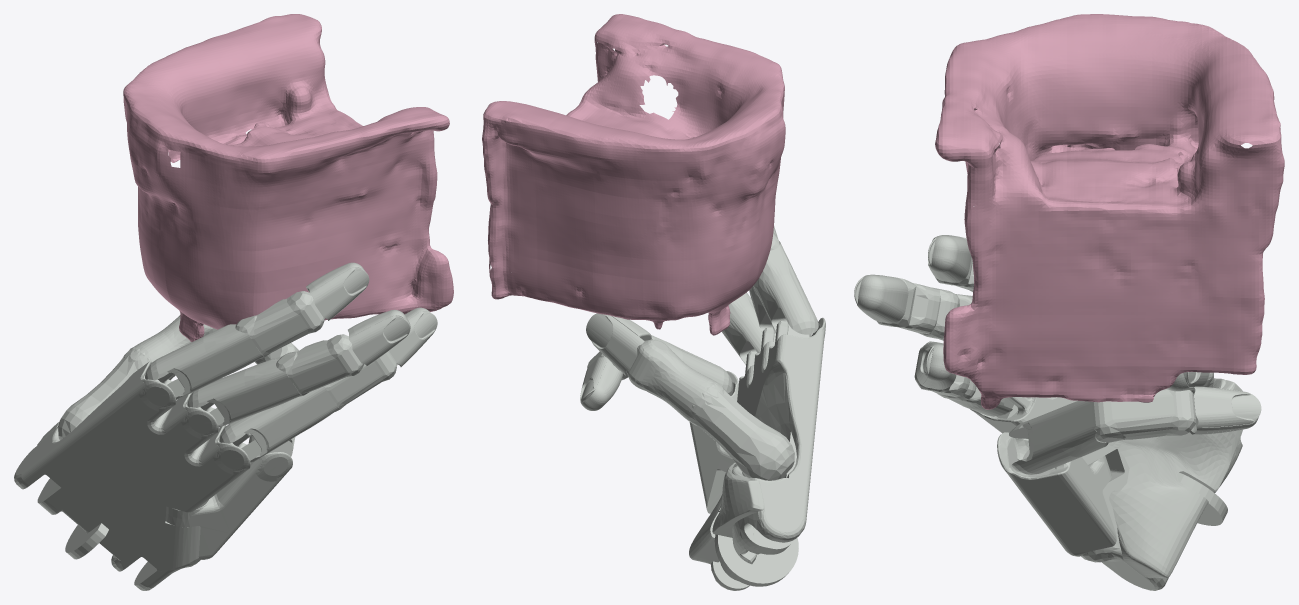
The picture shows the model from 3 angles, left to right: view 1: azimuth 30°, elevation 25°; view 2: azimuth 150°, elevation 25°; view 3: azimuth 270°, elevation 25°; orthographic projection. The views are drawn at different scales.
Visible parts, largest first — view 1: world, hand; view 2: world, hand; view 3: world, hand.
Part boxes in pixels (<box>): world: <box>123,14,453,341</box>; hand: <box>14,262,437,590</box>; world: <box>482,14,785,335</box>; hand: <box>580,226,825,590</box>; world: <box>935,14,1284,409</box>; hand: <box>854,235,1261,590</box>.
Size of the model in its own units: 0.1636 by 0.2364 by 0.1603.
